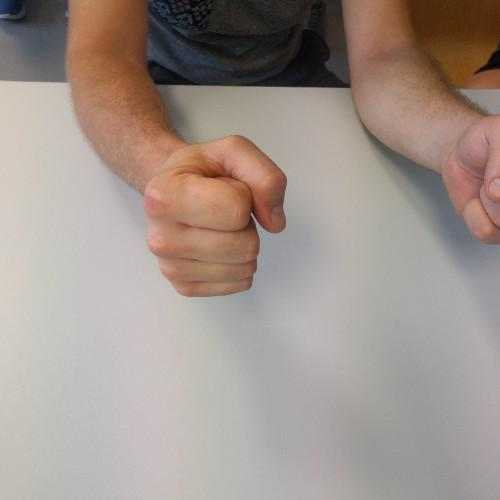rock: (136, 127, 298, 306), (437, 106, 500, 252)
